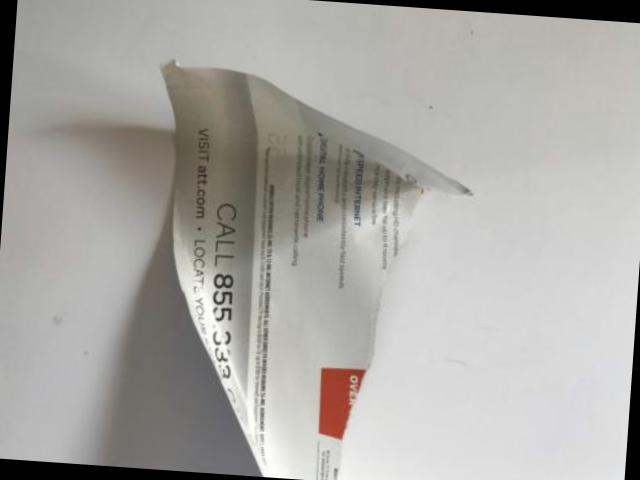cardboard paper: (163, 64, 468, 480)
